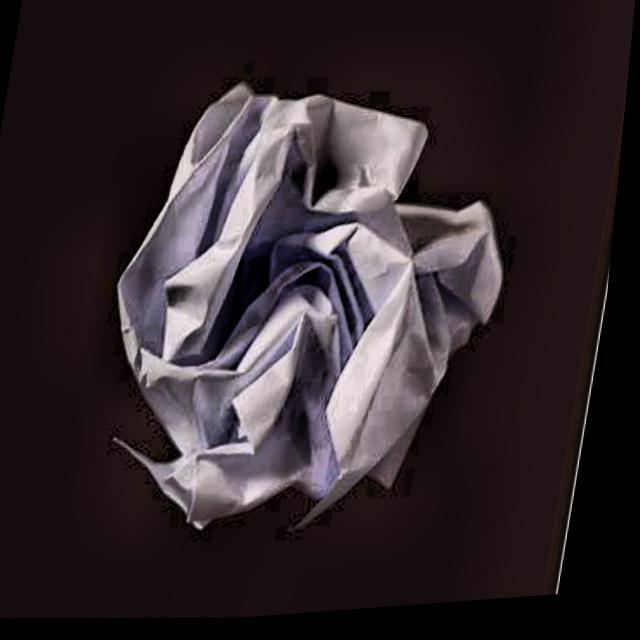Paper: (85, 50, 549, 561)
